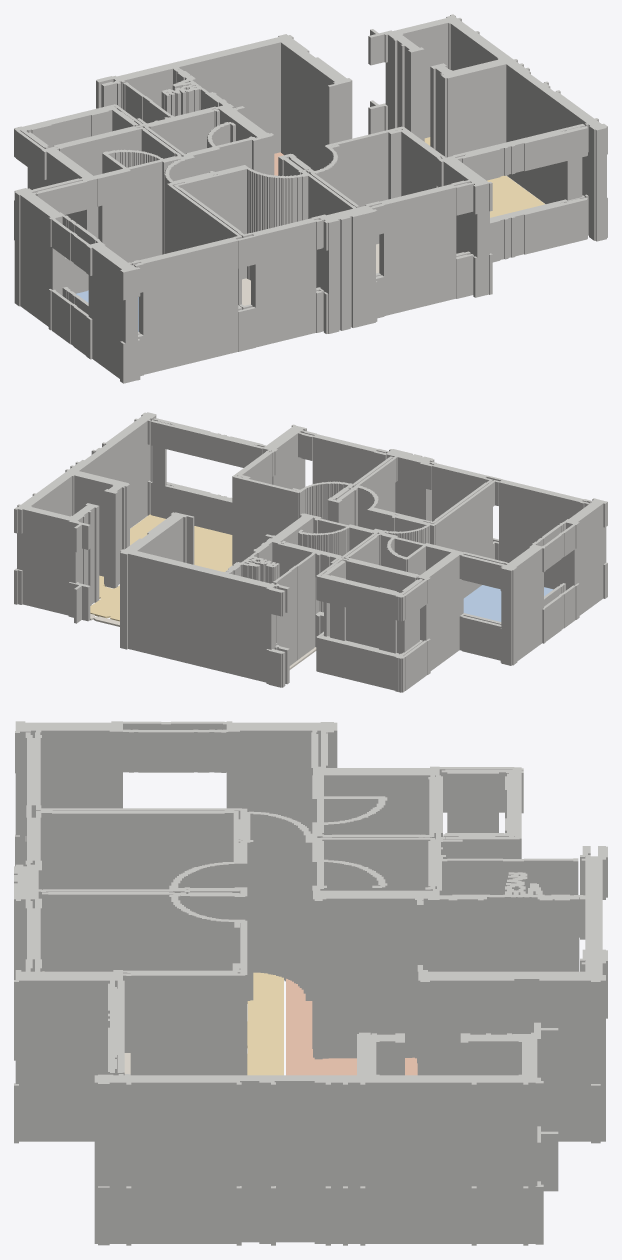
The picture shows the model from 3 angles, top to bottom: view 1: azimuth 30°, elevation 25°; view 2: azimuth 150°, elevation 25°; view 3: azimuth 270°, elevation 25°; orthographic projection. The views are drawn at different scales.
Visible parts, largest first — view 1: walls, room:living:2; view 2: walls, room:living:2, room:bedroom:3; view 3: walls, room:living:2, room:kitchen:0.
Part boxes in pixels (x1=…): walls: x1=14, y1=14, x2=607, y2=383; room:living:2: x1=424, y1=137, x2=544, y2=217; walls: x1=14, y1=412, x2=607, y2=692; room:living:2: x1=90, y1=514, x2=232, y2=621; room:bedroom:3: x1=463, y1=585, x2=553, y2=621; walls: x1=14, y1=721, x2=607, y2=1245; room:living:2: x1=247, y1=972, x2=283, y2=1075; room:kitchen:0: x1=286, y1=978, x2=417, y2=1075.
Size of the model in its own units: 13.53 by 2.8 by 9.35.
